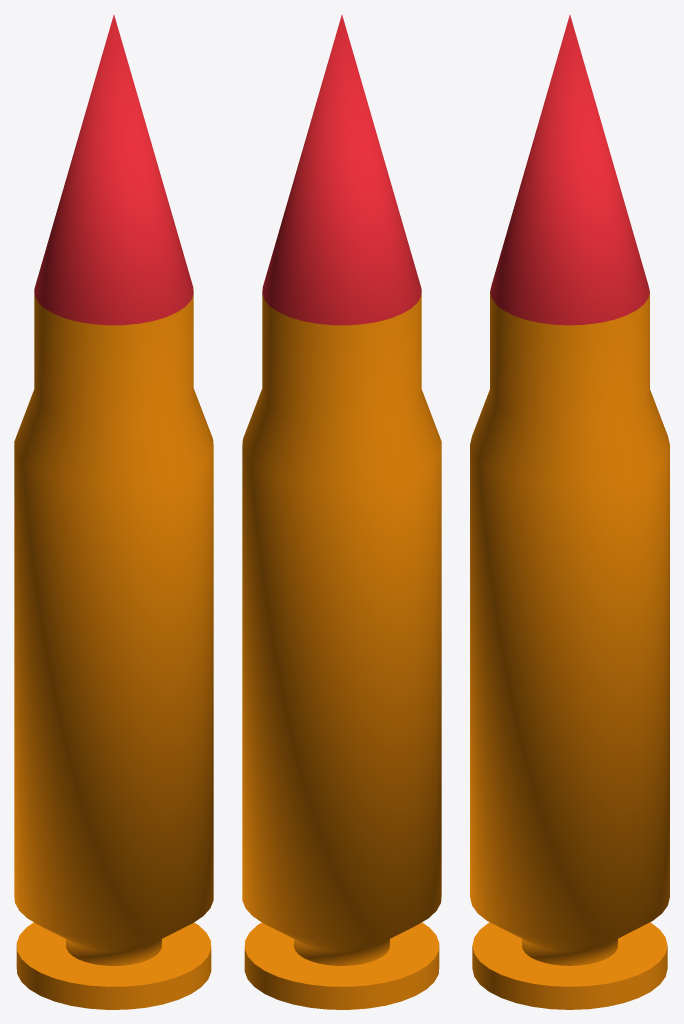
Rendered from Bullet.fbx.
3 renders of one model, left to right at view 1: azimuth 30°, elevation 25°; view 2: azimuth 150°, elevation 25°; view 3: azimuth 270°, elevation 25°, orthographic.
Visible parts, largest first — view 1: Cylinder; view 2: Cylinder; view 3: Cylinder.
Part boxes in pixels (x1=…): Cylinder: x1=14, y1=15, x2=213, y2=1009; Cylinder: x1=242, y1=15, x2=441, y2=1009; Cylinder: x1=470, y1=15, x2=669, y2=1009.
Size of the model in its own units: 110 by 579 by 110.
